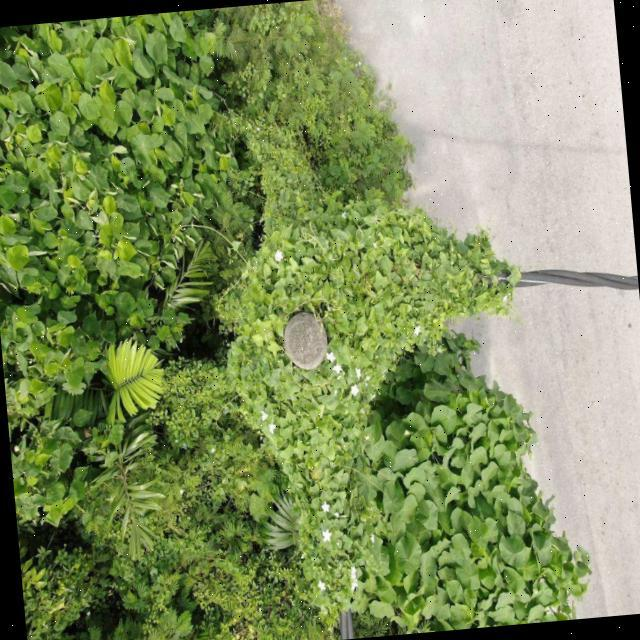critical vegetation: (182, 176, 557, 630)
